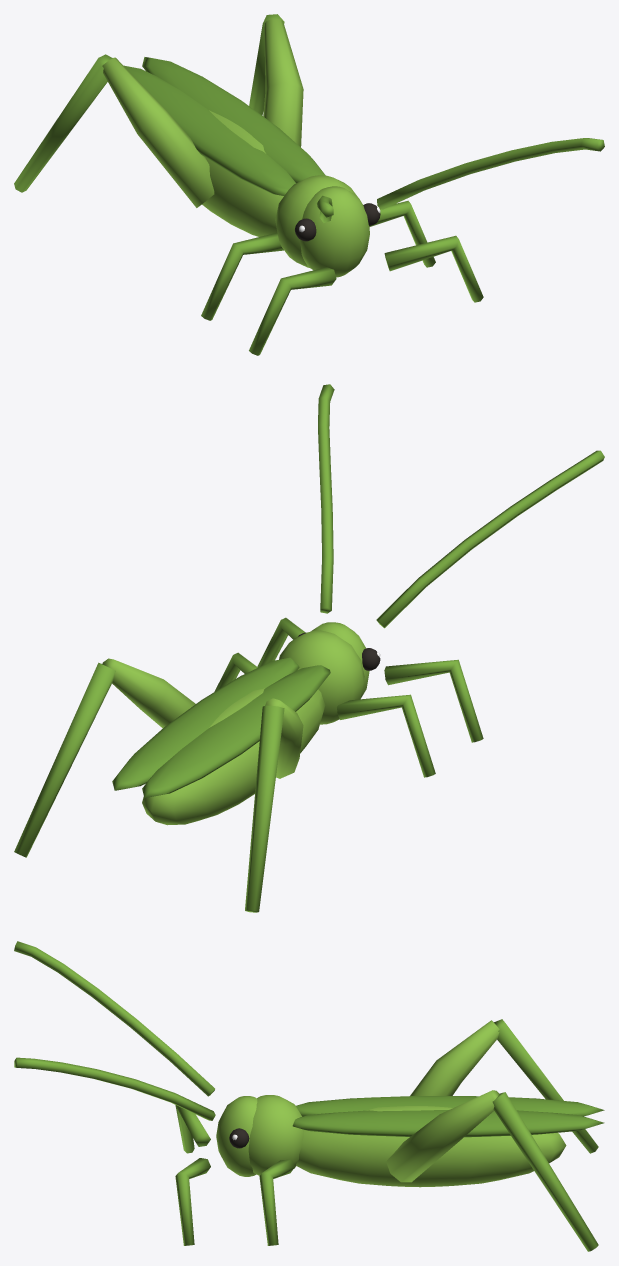
The model's file is bug-grasshopper.glb.
3 views of the same model, one above another, from view 1: azimuth 30°, elevation 25°; view 2: azimuth 150°, elevation 25°; view 3: azimuth 270°, elevation 25° (orthographic). The views are drawn at different scales.
Visible parts, largest first — view 1: bug; view 2: bug; view 3: bug.
Boxes of the visible parts, <box> form: bug: <box>14,14,604,355</box>; bug: <box>14,384,604,912</box>; bug: <box>14,941,604,1251</box>.
Bounding box in the file's own units: 0.1309 × 0.1017 × 0.2702.
